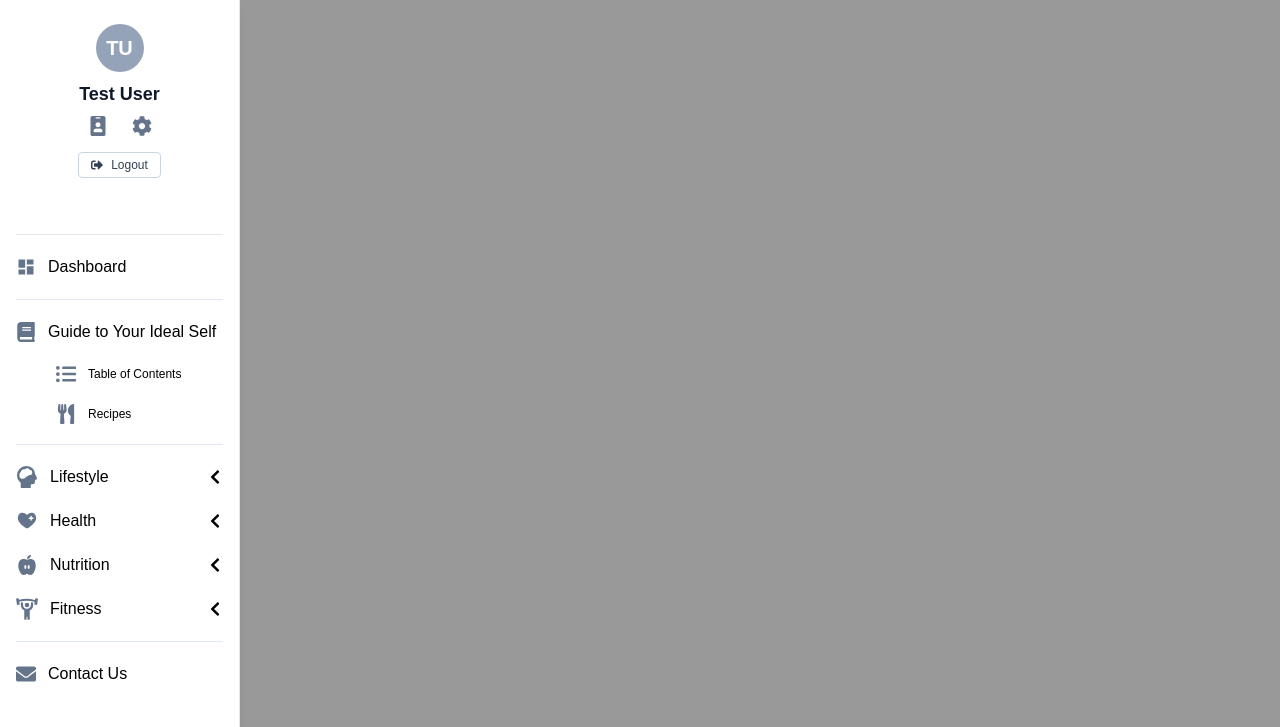
Test: UserSidebar Component › expands lifestyle section when clicked
Click the button "Lifestyle" at (120,477), box top-left (8, 457), bottom-right (231, 497)
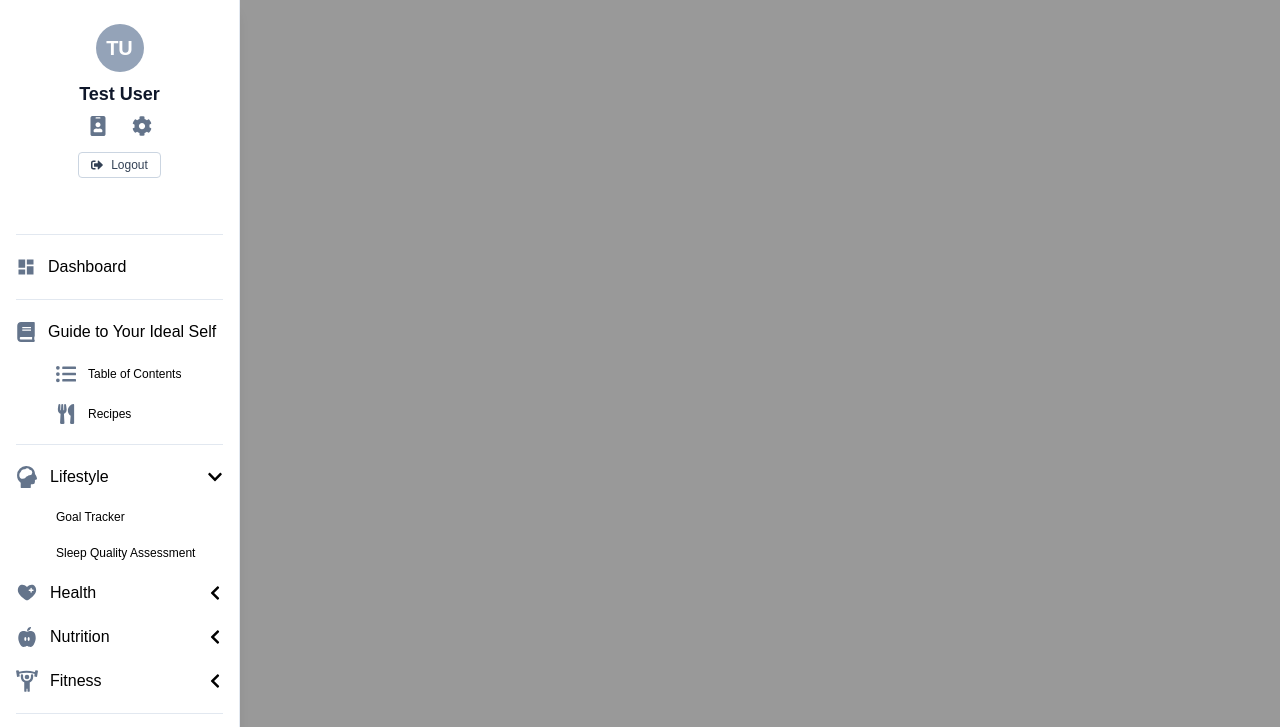
expect the text "Goal Tracker" is shown: met, box top-left (56, 510), bottom-right (125, 524)
expect the text "Sleep Quality Assessment" is shown: met, box top-left (56, 546), bottom-right (195, 560)
